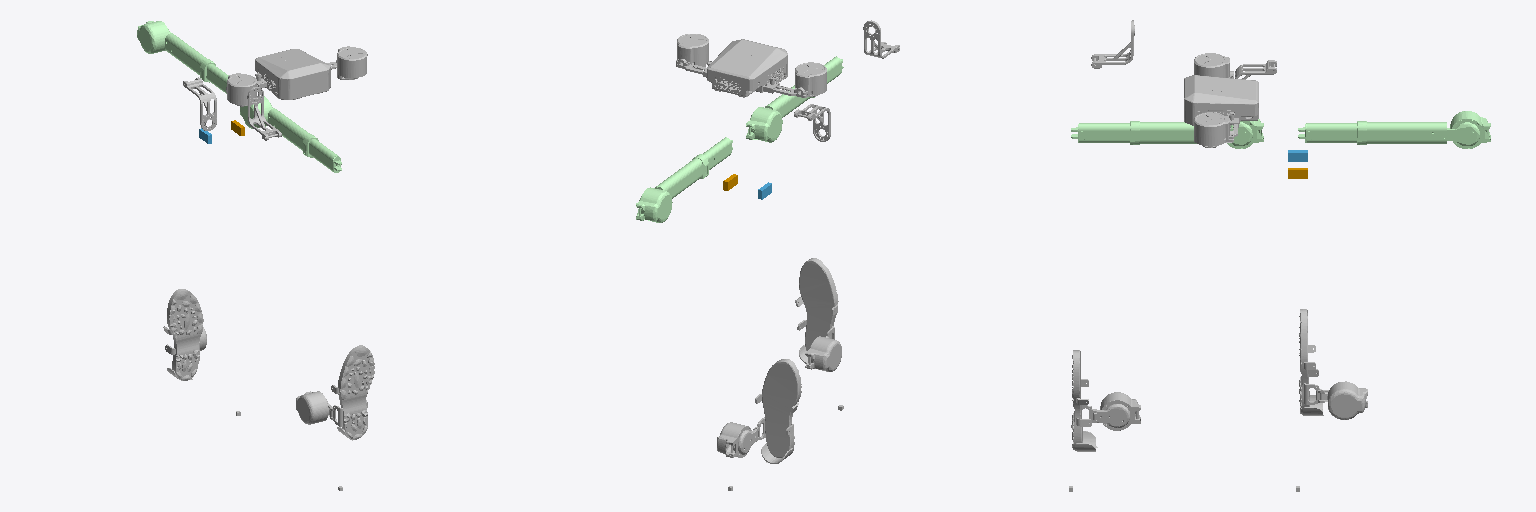
--- Render facts (derived) ---
The picture shows the robot from 3 angles, left to right: view 1: azimuth 30°, elevation 25°; view 2: azimuth 150°, elevation 25°; view 3: azimuth 270°, elevation 25°; orthographic projection.
Model exo with 14 links and 13 joints (8 revolute, 5 fixed), rooted at world, posed all joints at 0.
Links seen in each view (by area): view 1: waist_link, r_foot_link, l_foot_link, l_thigh_link, r_thigh_link, l_pel_link, r_pel_link; view 2: waist_link, l_foot_link, r_foot_link, l_thigh_link, r_thigh_link, l_pel_link, r_pel_link; view 3: waist_link, l_thigh_link, r_thigh_link, r_foot_link, l_foot_link, r_pel_link.
Boxes of the visible links, x1,y1,x2,y2 form: waist_link: [226, 46, 367, 106]; r_foot_link: [296, 345, 374, 440]; l_foot_link: [163, 289, 206, 380]; l_thigh_link: [137, 21, 228, 93]; r_thigh_link: [240, 96, 341, 172]; l_pel_link: [183, 77, 216, 130]; r_pel_link: [247, 87, 281, 140]; waist_link: [676, 34, 826, 97]; l_foot_link: [717, 359, 801, 463]; r_foot_link: [795, 258, 841, 371]; l_thigh_link: [636, 137, 732, 222]; r_thigh_link: [746, 56, 843, 142]; l_pel_link: [794, 104, 830, 141]; r_pel_link: [863, 20, 899, 58]; waist_link: [1184, 53, 1258, 147]; l_thigh_link: [1298, 111, 1490, 148]; r_thigh_link: [1071, 119, 1263, 148]; r_foot_link: [1071, 350, 1140, 451]; l_foot_link: [1299, 309, 1367, 419]; r_pel_link: [1091, 20, 1134, 68].
Bounding box of the posed robot: 0.4792 × 1.02 × 1.17 m (x, y, z).
7 mesh visuals loaded from 5 distinct referenced files (4 binary STL); not drawn: 2 (reference not matched to a file when rendering).

The robot description file, URDF, robot "exo":
<?xml version="1.0" ?>
<!-- =================================================================================== -->
<!-- |    This document was autogenerated by xacro from exo.xacro                      | -->
<!-- |    EDITING THIS FILE BY HAND IS NOT RECOMMENDED                                 | -->
<!-- =================================================================================== -->
<robot name="exo">
  <material name="silver">
    <color rgba="0.8 0.8 0.8 1.0"/>
  </material>
  <material name="blue">
    <color rgba="0.8 1 0.8 1.0"/>
  </material>
  <material name="green">
    <color rgba="0.8 0.8 1 1.0"/>
  </material>
  <!-- Human Boday Paramters -->
  
\
  
  <link name="d435_front">
    <collision>
      <origin rpy="0 0 0" xyz="0 0 0"/>
      <geometry>
        <box size="0.025 0.05 0.025"/>
      </geometry>
    </collision>
    <visual>
      <origin rpy="0 0 0" xyz="0 0 0"/>
      <geometry>
        <box size="0.0125 0.05 0.025"/>
      </geometry>
      <material name="red"/>
    </visual>
    <inertial>
      <mass value="1e-5"/>
      <origin rpy="0 0 0" xyz="0 0 0"/>
      <inertia ixx="1e-6" ixy="0" ixz="0" iyy="1e-6" iyz="0" izz="1e-6"/>
    </inertial>
  </link>
  <joint name="d435_front_joint" type="fixed">
    <axis xyz="0 1 0"/>
    <origin rpy="0 0.0 0" xyz="0.05 0 -0.234"/>
    <parent link="l_thigh_link"/>
    <child link="d435_front"/>
  </joint>
  <gazebo reference="d435_front">
    <sensor name="d435_front" type="depth">
      <always_on>true</always_on>
      <visualize>false</visualize>
      <camera>
        <horizontal_fov>1.3439</horizontal_fov>
        <image>
          <width>1920</width>
          <height>1080</height>
          <format>R8G8B8</format>
        </image>
        <depth_camera/>
        <clip>
          <near>0.03</near>
          <far>100</far>
        </clip>
      </camera>
      <plugin filename="libgazebo_ros_openni_kinect.so" name="camera_controller">
        <baseline>0.2</baseline>
        <alwaysOn>true</alwaysOn>
        <updateRate>30.0</updateRate>
        <cameraName>d435_front</cameraName>
        <frameName>d435_front</frameName>
        <imageTopicName>d435_front/rgb/image_raw</imageTopicName>
        <depthImageTopicName>d435_front/depth/image_raw</depthImageTopicName>
        <pointCloudTopicName>d435_front/depth/points</pointCloudTopicName>
        <cameraInfoTopicName>d435_front/rgb/camera_info</cameraInfoTopicName>
        <depthImageCameraInfoTopicName>d435_front/depth/camera_info</depthImageCameraInfoTopicName>
        <pointCloudCutoff>0.1</pointCloudCutoff>
        <hackBaseline>0.01</hackBaseline>
        <distortionK1>0.0</distortionK1>
        <distortionK2>0.0</distortionK2>
        <distortionK3>0.0</distortionK3>
        <distortionT1>0.0</distortionT1>
        <distortionT2>0.0</distortionT2>
        <CxPrime>0.0</CxPrime>
        <Cx>0.0</Cx>
        <Cy>0.0</Cy>
        <focalLength>0</focalLength>
        <hackBaseline>0</hackBaseline>
      </plugin>
    </sensor>
  </gazebo>
  <link name="d435_back">
    <collision>
      <origin rpy="0 0 0" xyz="0 0 0"/>
      <geometry>
        <box size="0.025 0.05 0.025"/>
      </geometry>
    </collision>
    <visual>
      <origin rpy="0 0 0" xyz="0 0 0"/>
      <geometry>
        <box size="0.0125 0.05 0.025"/>
      </geometry>
      <material name="red"/>
    </visual>
    <inertial>
      <mass value="1e-5"/>
      <origin rpy="0 0 0" xyz="0 0 0"/>
      <inertia ixx="1e-6" ixy="0" ixz="0" iyy="1e-6" iyz="0" izz="1e-6"/>
    </inertial>
  </link>
  <joint name="d435_back_joint" type="fixed">
    <axis xyz="0 1 0"/>
    <origin rpy="0 0 3.141592653589793" xyz="-0.05 0 -0.234"/>
    <parent link="l_thigh_link"/>
    <child link="d435_back"/>
  </joint>
  <gazebo reference="d435_back">
    <sensor name="d435_back" type="depth">
      <always_on>true</always_on>
      <visualize>false</visualize>
      <camera>
        <horizontal_fov>1.3439</horizontal_fov>
        <image>
          <width>1920</width>
          <height>1080</height>
          <format>R8G8B8</format>
        </image>
        <depth_camera/>
        <clip>
          <near>0.03</near>
          <far>100</far>
        </clip>
      </camera>
      <plugin filename="libgazebo_ros_openni_kinect.so" name="camera_controller">
        <baseline>0.2</baseline>
        <alwaysOn>true</alwaysOn>
        <updateRate>30.0</updateRate>
        <cameraName>d435_back</cameraName>
        <frameName>d435_back</frameName>
        <imageTopicName>d435_back/rgb/image_raw</imageTopicName>
        <depthImageTopicName>d435_back/depth/image_raw</depthImageTopicName>
        <pointCloudTopicName>d435_back/depth/points</pointCloudTopicName>
        <cameraInfoTopicName>d435_back/rgb/camera_info</cameraInfoTopicName>
        <depthImageCameraInfoTopicName>d435_back/depth/camera_info</depthImageCameraInfoTopicName>
        <pointCloudCutoff>0.1</pointCloudCutoff>
        <hackBaseline>0.01</hackBaseline>
        <distortionK1>0.0</distortionK1>
        <distortionK2>0.0</distortionK2>
        <distortionK3>0.0</distortionK3>
        <distortionT1>0.0</distortionT1>
        <distortionT2>0.0</distortionT2>
        <CxPrime>0.0</CxPrime>
        <Cx>0.0</Cx>
        <Cy>0.0</Cy>
        <focalLength>0</focalLength>
        <hackBaseline>0</hackBaseline>
      </plugin>
    </sensor>
  </gazebo>
  <link name="world"/>
  <joint name="pole_to_waist" type="fixed">
    <parent link="world"/>
    <child link="waist_link"/>
    <origin rpy="0 0 0" xyz="0 0 0"/>
  </joint>
  <!-- 
  <link name="human_waist_link">
    <visual>
      <origin xyz="0 0 ${-human_waist_h/2}" rpy="0 0 0" />
      <geometry>
        <box size="${human_waist_l} ${human_waist_w} ${human_waist_h}" />
      </geometry>
      <material name="black" />
    </visual>
    <collision>
      <origin xyz="0 0 ${-human_waist_h/2}" rpy="0 0 0" />
      <geometry>
        <box size="${human_waist_l} ${human_waist_w} ${human_waist_h}" />
      </geometry>
    </collision>

    <inertial>
      <origin xyz="0 0 ${-human_waist_h/2}" rpy="0 0 0" />
      <mass value="${human_waist_weight}" />
      <inertia ixx="${human_waist_weight / 12.0 * (human_waist_w**2 + human_waist_h**2)}" iyy="${human_waist_weight / 12.0 * (human_waist_l**2 + human_waist_h**2)}" izz="${human_waist_weight / 12.0 * (human_waist_l**2 + human_waist_w**2)}" ixy="0" ixz="0" iyz="0" />
    </inertial>

  </link>

  <joint name="human_waist_link_joint" type="fixed">
    <parent link="waist_link" />
    <child link="human_waist_link" />
    <origin xyz="${human_waist_l/2 + 0.08} 0 ${0}" rpy="0 0 0" />
  </joint> -->
  <link name="waist_link">
    <collision>
      <origin rpy="0 0 0" xyz="0 0 -0.025"/>
      <geometry>
        <box size="0.05 0.225 0.03"/>
      </geometry>
    </collision>
    <visual>
      <!-- <xacro:if value="${use_mesh}">
                    <mesh_filename="" />
                </xacro:if> -->
      <!-- <xacro:property name="o_rpy_parts" value="split(o_rpy)" />
                <xacro:property name="o_yaw" value="${(o_rpy_parts[2])}" /> -->
      <!-- <origin xyz="0 0 0" rpy="0 0 ${-PI}" /> -->
      <!-- <origin xyz="${-h} ${-w/2} ${-l}" rpy="${PI/2} 0 ${PI/2 + float(o_yaw)}" /> -->
      <origin rpy="1.5707963267948966 0 -1.5707963267948966" xyz="0 0.21000000000000002 -0.062"/>
      <geometry>
        <mesh filename="package://yr_description/urdf/meshes_yr/waist_center.STL" scale="0.001 0.001 0.001"/>
      </geometry>
      <origin rpy="0 0 0" xyz="0 0 -0.025"/>
      <material name="silver"/>
    </visual>
    <inertial>
      <origin rpy="0 0 0" xyz="0 0 -0.025"/>
      <mass value="2.0"/>
      <inertia ixx="0.008854166666666666" ixy="0.0" ixz="0.0" iyy="0.0008333333333333335" iyz="0.0" izz="0.008854166666666666"/>
    </inertial>
  </link>
  <link name="l_pel_link">
    <collision>
      <origin rpy="0 0 0" xyz="0 0 -0.05"/>
      <geometry>
        <box size="0.1 0.05 0.06"/>
      </geometry>
    </collision>
    <visual>
      <!-- <xacro:if value="${use_mesh}">
                    <mesh_filename="" />
                </xacro:if> -->
      <!-- <xacro:property name="o_rpy_parts" value="split(o_rpy)" />
                <xacro:property name="o_yaw" value="${(o_rpy_parts[2])}" /> -->
      <!-- <origin xyz="0 0 0" rpy="0 0 ${-PI}" /> -->
      <!-- <origin xyz="${-h} ${-w/2} ${-l}" rpy="${PI/2} 0 ${PI/2 + float(o_yaw)}" /> -->
      <origin rpy="1.5707963267948966 0 1.5707963267948966" xyz="-0.09 -0.028 -0.088"/>
      <geometry>
        <mesh filename="package://yr_description/urdf/meshes_yr/waist_corner_bracket.STL" scale="0.001 0.001 0.001"/>
      </geometry>
      <origin rpy="0 0 0" xyz="0 0 -0.05"/>
      <material name="silver"/>
    </visual>
    <inertial>
      <origin rpy="0 0 0" xyz="0 0 -0.05"/>
      <mass value="1.0"/>
      <inertia ixx="0.0010416666666666669" ixy="0.0" ixz="0.0" iyy="0.001666666666666667" iyz="0.0" izz="0.0010416666666666669"/>
    </inertial>
  </link>
  <link name="l_thigh_link">
    <collision>
      <origin rpy="0 0 0" xyz="0 0 -0.234"/>
      <geometry>
        <box size="0.1 0.1 0.2808"/>
      </geometry>
    </collision>
    <visual>
      <!-- <xacro:if value="${use_mesh}">
                    <mesh_filename="" />
                </xacro:if> -->
      <!-- <xacro:property name="o_rpy_parts" value="split(o_rpy)" />
                <xacro:property name="o_yaw" value="${(o_rpy_parts[2])}" /> -->
      <!-- <origin xyz="0 0 0" rpy="0 0 ${-PI}" /> -->
      <!-- <origin xyz="${-h} ${-w/2} ${-l}" rpy="${PI/2} 0 ${PI/2 + float(o_yaw)}" /> -->
      <origin rpy="1.5707963267948966 0 4.71238898038469" xyz="0.1 0.05 -0.468"/>
      <geometry>
        <mesh filename="package://yr_description/urdf/meshes_yr/exo_thigh.STL" scale="0.001 0.001 0.001"/>
      </geometry>
      <origin rpy="0 0 0" xyz="0 0 -0.234"/>
      <material name="blue"/>
    </visual>
    <inertial>
      <origin rpy="0 0 0" xyz="0 0 -0.234"/>
      <mass value="1.5"/>
      <inertia ixx="0.028628000000000004" ixy="0.0" ixz="0.0" iyy="0.028628000000000004" iyz="0.0" izz="0.0025000000000000005"/>
    </inertial>
  </link>
  <link name="l_shank_link">
    <collision>
      <origin rpy="0 0 0" xyz="0 0 -0.234"/>
      <geometry>
        <box size="0.1 0.1 0.2808"/>
      </geometry>
    </collision>
    <visual>
      <!-- <xacro:if value="${use_mesh}">
                    <mesh_filename="" />
                </xacro:if> -->
      <!-- <xacro:property name="o_rpy_parts" value="split(o_rpy)" />
                <xacro:property name="o_yaw" value="${(o_rpy_parts[2])}" /> -->
      <!-- <origin xyz="0 0 0" rpy="0 0 ${-PI}" /> -->
      <!-- <origin xyz="${-h} ${-w/2} ${-l}" rpy="${PI/2} 0 ${PI/2 + float(o_yaw)}" /> -->
      <origin rpy="1.5707963267948966 0 4.71238898038469" xyz="0.1 0.05 -0.468"/>
      <geometry>
        <mesh filename="package://yr_description/urdf/meshes_yr/exo_shank.STL" scale="0.001 0.001 0.001"/>
      </geometry>
      <origin rpy="0 0 0" xyz="0 0 -0.234"/>
      <material name="green"/>
    </visual>
    <inertial>
      <origin rpy="0 0 0" xyz="0 0 -0.234"/>
      <mass value="1.5"/>
      <inertia ixx="0.028628000000000004" ixy="0.0" ixz="0.0" iyy="0.028628000000000004" iyz="0.0" izz="0.0025000000000000005"/>
    </inertial>
  </link>
  <!-- <xacro:create_link2 name="l_foot_link" m="${foot_m}" l="${foot_h}" w="${foot_w}" h="${foot_l}" o_x="${-foot_h}" o_y="${foot_w}" o_z="${-foot_l}" o_r="0" o_p="0" o_yaw="0" mat="${foot_mat}" mesh_filename="${foot_mesh}" mirror="-1" /> -->
  <link name="l_foot_link">
    <collision>
      <origin rpy="0 0 0" xyz="0.05 0 -0.1"/>
      <geometry>
        <box size="0.2 0.08 0.075"/>
      </geometry>
    </collision>
    <visual>
      <origin rpy="1.5707963267948966 0 1.5707963267948966" xyz="-0.1 0.08 -0.15"/>
      <geometry>
        <mesh filename="package://yr_description/urdf/meshes_yr/exo_foot.STL" scale="-0.001 0.001 0.001"/>
      </geometry>
      <origin rpy="0 0 0" xyz="0 0 -0.05"/>
      <material name="silver"/>
    </visual>
    <inertial>
      <origin rpy="0 0 0" xyz="0 0 -0.05"/>
      <mass value="1.0"/>
      <inertia ixx="0.0013666666666666666" ixy="0.0" ixz="0.0" iyy="0.0027083333333333334" iyz="0.0" izz="0.002408333333333333"/>
    </inertial>
  </link>
  <link name="l_foot_bottom_link">
    <!-- <collision>
      <origin xyz="0 0 0" rpy="0 0 0" />
      <geometry>
        <box size="0.01 0.01 0.01" />
      </geometry>
      <origin xyz="0 0 0" rpy="0 0 0" />
    </collision> -->
    <visual>
      <origin rpy="0 0 0" xyz="0 0 0"/>
      <geometry>
        <box size="0.01 0.01 0.01"/>
      </geometry>
      <origin rpy="0 0 0" xyz="0 0 0"/>
      <material name="silver"/>
    </visual>
    <inertial>
      <origin rpy="0 0 0" xyz="0 0 0"/>
      <mass value="0.01"/>
      <inertia ixx="0.00001" ixy="0.0" ixz="0.0" iyy="0.00001" iyz="0.0" izz="0.00001"/>
    </inertial>
  </link>
  <joint name="l_foot_bottom_joint" type="fixed">
    <parent link="l_foot_link"/>
    <child link="l_foot_bottom_link"/>
    <origin rpy="0 0 0" xyz="0.05 0 -0.14"/>
  </joint>
  <link name="r_pel_link">
    <collision>
      <origin rpy="0 0 0" xyz="0 0 -0.05"/>
      <geometry>
        <box size="0.1 0.05 0.06"/>
      </geometry>
    </collision>
    <visual>
      <!-- <xacro:if value="${use_mesh}">
                    <mesh_filename="" />
                </xacro:if> -->
      <!-- <xacro:property name="o_rpy_parts" value="split(o_rpy)" />
                <xacro:property name="o_yaw" value="${(o_rpy_parts[2])}" /> -->
      <!-- <origin xyz="0 0 0" rpy="0 0 ${-PI}" /> -->
      <!-- <origin xyz="${-h} ${-w/2} ${-l}" rpy="${PI/2} 0 ${PI/2 + float(o_yaw)}" /> -->
      <origin rpy="1.5707963267948966 0 1.5707963267948966" xyz="-0.09 -0.028 -0.088"/>
      <geometry>
        <mesh filename="package://yr_description/urdf/meshes_yr/waist_corner_bracket.STL" scale="0.001 0.001 0.001"/>
      </geometry>
      <origin rpy="0 0 0" xyz="0 0 -0.05"/>
      <material name="silver"/>
    </visual>
    <inertial>
      <origin rpy="0 0 0" xyz="0 0 -0.05"/>
      <mass value="1.0"/>
      <inertia ixx="0.0010416666666666669" ixy="0.0" ixz="0.0" iyy="0.001666666666666667" iyz="0.0" izz="0.0010416666666666669"/>
    </inertial>
  </link>
  <link name="r_thigh_link">
    <collision>
      <origin rpy="0 0 0" xyz="0 0 -0.234"/>
      <geometry>
        <box size="0.1 0.1 0.2808"/>
      </geometry>
    </collision>
    <visual>
      <!-- <xacro:if value="${use_mesh}">
                    <mesh_filename="" />
                </xacro:if> -->
      <!-- <xacro:property name="o_rpy_parts" value="split(o_rpy)" />
                <xacro:property name="o_yaw" value="${(o_rpy_parts[2])}" /> -->
      <!-- <origin xyz="0 0 0" rpy="0 0 ${-PI}" /> -->
      <!-- <origin xyz="${-h} ${-w/2} ${-l}" rpy="${PI/2} 0 ${PI/2 + float(o_yaw)}" /> -->
      <origin rpy="1.5707963267948966 0 1.5707963267948966" xyz="-0.1 -0.05 -0.468"/>
      <geometry>
        <mesh filename="package://yr_description/urdf/meshes_yr/exo_thigh.STL" scale="0.001 0.001 0.001"/>
      </geometry>
      <origin rpy="0 0 0" xyz="0 0 -0.234"/>
      <material name="blue"/>
    </visual>
    <inertial>
      <origin rpy="0 0 0" xyz="0 0 -0.234"/>
      <mass value="1.5"/>
      <inertia ixx="0.028628000000000004" ixy="0.0" ixz="0.0" iyy="0.028628000000000004" iyz="0.0" izz="0.0025000000000000005"/>
    </inertial>
  </link>
  <link name="r_shank_link">
    <collision>
      <origin rpy="0 0 0" xyz="0 0 -0.234"/>
      <geometry>
        <box size="0.1 0.1 0.2808"/>
      </geometry>
    </collision>
    <visual>
      <!-- <xacro:if value="${use_mesh}">
                    <mesh_filename="" />
                </xacro:if> -->
      <!-- <xacro:property name="o_rpy_parts" value="split(o_rpy)" />
                <xacro:property name="o_yaw" value="${(o_rpy_parts[2])}" /> -->
      <!-- <origin xyz="0 0 0" rpy="0 0 ${-PI}" /> -->
      <!-- <origin xyz="${-h} ${-w/2} ${-l}" rpy="${PI/2} 0 ${PI/2 + float(o_yaw)}" /> -->
      <origin rpy="1.5707963267948966 0 1.5707963267948966" xyz="-0.1 -0.05 -0.468"/>
      <geometry>
        <mesh filename="package://yr_description/urdf/meshes_yr/exo_shank.STL" scale="0.001 0.001 0.001"/>
      </geometry>
      <origin rpy="0 0 0" xyz="0 0 -0.234"/>
      <material name="green"/>
    </visual>
    <inertial>
      <origin rpy="0 0 0" xyz="0 0 -0.234"/>
      <mass value="1.5"/>
      <inertia ixx="0.028628000000000004" ixy="0.0" ixz="0.0" iyy="0.028628000000000004" iyz="0.0" izz="0.0025000000000000005"/>
    </inertial>
  </link>
  <!-- <xacro:create_link2 name="r_foot_link" m="${foot_m}" l="${foot_h}" w="${foot_w}" h="${foot_l}" o_x="${-foot_h}" o_y="${-foot_w}" o_z="${-foot_l}" o_r="0" o_p="0" o_yaw="0" mat="${foot_mat}" mesh_filename="${foot_mesh}" mirror="1" /> -->
  <link name="r_foot_link">
    <collision>
      <origin rpy="0 0 0" xyz="0.05 0 -0.1"/>
      <geometry>
        <box size="0.2 0.08 0.075"/>
      </geometry>
    </collision>
    <visual>
      <origin rpy="1.5707963267948966 0 1.5707963267948966" xyz="-0.1 -0.08 -0.15"/>
      <geometry>
        <mesh filename="package://yr_description/urdf/meshes_yr/exo_foot.STL" scale="0.001 0.001 0.001"/>
      </geometry>
      <origin rpy="0 0 0" xyz="0 0 -0.05"/>
      <material name="silver"/>
    </visual>
    <inertial>
      <origin rpy="0 0 0" xyz="0 0 -0.05"/>
      <mass value="1.0"/>
      <inertia ixx="0.0013666666666666666" ixy="0.0" ixz="0.0" iyy="0.0027083333333333334" iyz="0.0" izz="0.002408333333333333"/>
    </inertial>
  </link>
  <link name="r_foot_bottom_link">
    <!-- <collision>
      <origin xyz="0 0 0" rpy="0 0 0" />
      <geometry>
        <box size="0.01 0.01 0.01" />
      </geometry>
      <origin xyz="0 0 0" rpy="0 0 0" />
    </collision> -->
    <visual>
      <origin rpy="0 0 0" xyz="0 0 0"/>
      <geometry>
        <box size="0.01 0.01 0.01"/>
      </geometry>
      <origin rpy="0 0 0" xyz="0 0 0"/>
      <material name="silver"/>
    </visual>
    <inertial>
      <origin rpy="0 0 0" xyz="0 0 0"/>
      <mass value="0.01"/>
      <inertia ixx="0.00001" ixy="0.0" ixz="0.0" iyy="0.00001" iyz="0.0" izz="0.00001"/>
    </inertial>
  </link>
  <joint name="r_foot_bottom_joint" type="fixed">
    <parent link="r_foot_link"/>
    <child link="r_foot_bottom_link"/>
    <origin rpy="0 0 0" xyz="0.05 0 -0.14"/>
  </joint>
  <joint name="yr_l_pel_joint" type="revolute">
    <parent link="waist_link"/>
    <child link="l_pel_link"/>
    <origin rpy="-1.5707963267948966 0 -3.141592653589793" xyz="0 0.175 0"/>
    <axis xyz="1 0 0"/>
    <limit effort="1000" lower="-1.5707963267948966" upper="1.5707963267948966" velocity="10.0"/>
  </joint>
  <joint name="yr_l_hip_joint" type="revolute">
    <parent link="l_pel_link"/>
    <child link="l_thigh_link"/>
    <origin rpy="-1.5707963267948966 0 -3.141592653589793" xyz="-0.1 -0.025 -0.1"/>
    <axis xyz="0 1 0"/>
    <limit effort="1000" lower="-2.356194490192345" upper="2.356194490192345" velocity="10.0"/>
  </joint>
  <joint name="yr_l_kne_joint" type="revolute">
    <parent link="l_thigh_link"/>
    <child link="l_shank_link"/>
    <origin rpy="0 0 0" xyz="0 0 -0.468"/>
    <axis xyz="0 1 0"/>
    <limit effort="1000" lower="-0.7853981633974483" upper="3.141592653589793" velocity="10.0"/>
  </joint>
  <joint name="yr_l_ank_joint" type="revolute">
    <parent link="l_shank_link"/>
    <child link="l_foot_link"/>
    <origin rpy="0 0 0" xyz="0 0 -0.468"/>
    <axis xyz="0 1 0"/>
    <limit effort="1000" lower="-0.7853981633974483" upper="1.5707963267948966" velocity="10.0"/>
  </joint>
  <joint name="yr_r_pel_joint" type="revolute">
    <parent link="waist_link"/>
    <child link="r_pel_link"/>
    <origin rpy="1.5707963267948966 0 -3.141592653589793" xyz="0 -0.175 0"/>
    <axis xyz="1 0 0"/>
    <limit effort="1000" lower="-1.5707963267948966" upper="1.5707963267948966" velocity="10.0"/>
  </joint>
  <joint name="yr_r_hip_joint" type="revolute">
    <parent link="r_pel_link"/>
    <child link="r_thigh_link"/>
    <origin rpy="1.5707963267948966 0 -3.141592653589793" xyz="-0.1 0.025 -0.1"/>
    <axis xyz="0 1 0"/>
    <limit effort="1000" lower="-2.356194490192345" upper="2.356194490192345" velocity="10.0"/>
  </joint>
  <joint name="yr_r_kne_joint" type="revolute">
    <parent link="r_thigh_link"/>
    <child link="r_shank_link"/>
    <origin rpy="0 0 0" xyz="0 0 -0.468"/>
    <axis xyz="0 1 0"/>
    <limit effort="1000" lower="-0.7853981633974483" upper="3.141592653589793" velocity="10.0"/>
  </joint>
  <joint name="yr_r_ank_joint" type="revolute">
    <parent link="r_shank_link"/>
    <child link="r_foot_link"/>
    <origin rpy="0 0 0" xyz="0 0 -0.468"/>
    <axis xyz="0 1 0"/>
    <limit effort="1000" lower="-0.7853981633974483" upper="1.5707963267948966" velocity="10.0"/>
  </joint>
  <gazebo>
    <plugin filename="libgazebo_ros_control.so" name="gazebo_ros_control">
      <robotNamespace>/exo</robotNamespace>
      <robotSimType>gazebo_ros_control/DefaultRobotHWSim</robotSimType>
    </plugin>
  </gazebo>
  <transmission name="yr_l_pel_joint_tran">
    <type>transmission_interface/SimpleTransmission</type>
    <joint name="yr_l_pel_joint">
      <hardwareInterface>EffortJointInterface</hardwareInterface>
    </joint>
    <actuator name="yr_l_pel_joint_motor">
      <!-- <hardwareInterface>EffortJointInterface</hardwareInterface> -->
      <mechanicalReduction>1</mechanicalReduction>
    </actuator>
  </transmission>
  <transmission name="yr_l_hip_joint_tran">
    <type>transmission_interface/SimpleTransmission</type>
    <joint name="yr_l_hip_joint">
      <hardwareInterface>EffortJointInterface</hardwareInterface>
    </joint>
    <actuator name="yr_l_hip_joint_motor">
      <!-- <hardwareInterface>EffortJointInterface</hardwareInterface> -->
      <mechanicalReduction>1</mechanicalReduction>
    </actuator>
  </transmission>
  <transmission name="yr_l_kne_joint_tran">
    <type>transmission_interface/SimpleTransmission</type>
    <joint name="yr_l_kne_joint">
      <hardwareInterface>EffortJointInterface</hardwareInterface>
    </joint>
    <actuator name="yr_l_kne_joint_motor">
      <!-- <hardwareInterface>EffortJointInterface</hardwareInterface> -->
      <mechanicalReduction>1</mechanicalReduction>
    </actuator>
  </transmission>
  <transmission name="yr_l_ank_joint_tran">
    <type>transmission_interface/SimpleTransmission</type>
    <joint name="yr_l_ank_joint">
      <hardwareInterface>EffortJointInterface</hardwareInterface>
    </joint>
    <actuator name="yr_l_ank_joint_motor">
      <!-- <hardwareInterface>EffortJointInterface</hardwareInterface> -->
      <mechanicalReduction>1</mechanicalReduction>
    </actuator>
  </transmission>
  <transmission name="yr_r_pel_joint_tran">
    <type>transmission_interface/SimpleTransmission</type>
    <joint name="yr_r_pel_joint">
      <hardwareInterface>EffortJointInterface</hardwareInterface>
    </joint>
    <actuator name="yr_r_pel_joint_motor">
      <!-- <hardwareInterface>EffortJointInterface</hardwareInterface> -->
      <mechanicalReduction>1</mechanicalReduction>
    </actuator>
  </transmission>
  <transmission name="yr_r_hip_joint_tran">
    <type>transmission_interface/SimpleTransmission</type>
    <joint name="yr_r_hip_joint">
      <hardwareInterface>EffortJointInterface</hardwareInterface>
    </joint>
    <actuator name="yr_r_hip_joint_motor">
      <!-- <hardwareInterface>EffortJointInterface</hardwareInterface> -->
      <mechanicalReduction>1</mechanicalReduction>
    </actuator>
  </transmission>
  <transmission name="yr_r_kne_joint_tran">
    <type>transmission_interface/SimpleTransmission</type>
    <joint name="yr_r_kne_joint">
      <hardwareInterface>EffortJointInterface</hardwareInterface>
    </joint>
    <actuator name="yr_r_kne_joint_motor">
      <!-- <hardwareInterface>EffortJointInterface</hardwareInterface> -->
      <mechanicalReduction>1</mechanicalReduction>
    </actuator>
  </transmission>
  <transmission name="yr_r_ank_joint_tran">
    <type>transmission_interface/SimpleTransmission</type>
    <joint name="yr_r_ank_joint">
      <hardwareInterface>EffortJointInterface</hardwareInterface>
    </joint>
    <actuator name="yr_r_ank_joint_motor">
      <!-- <hardwareInterface>EffortJointInterface</hardwareInterface> -->
      <mechanicalReduction>1</mechanicalReduction>
    </actuator>
  </transmission>
  <gazebo reference="human_waist_link">
    <mu1>1.0</mu1>
    <mu2>1.0</mu2>
    <self_collide>0</self_collide>
    <material>Gazebo/White</material>
    <visual>
      <material>
        <ambient>0.7 0.7 0.7 1</ambient>
        <diffuse>0.7 0.7 0.7 1</diffuse>
        <specular>0.1 0.1 0.1 1</specular>
        <emissive>0 0 0 0</emissive>
      </material>
    </visual>
    <!-- <collision>
                <surface>
                    <friction>
                        <ode>
                            <mu1>2</mu1>
                            <mu2>2</mu2>
                            <kp value="1000000.0" />
                            <kd value="1000.0" />
                        </ode>
                    </friction>
                </surface>

            </collision> -->
  </gazebo>
  <gazebo reference="waist_link">
    <mu1>1.0</mu1>
    <mu2>1.0</mu2>
    <self_collide>0</self_collide>
    <material>Gazebo/White</material>
    <visual>
      <material>
        <ambient>0.7 0.7 0.7 1</ambient>
        <diffuse>0.7 0.7 0.7 1</diffuse>
        <specular>0.1 0.1 0.1 1</specular>
        <emissive>0 0 0 0</emissive>
      </material>
    </visual>
    <!-- <collision>
                <surface>
                    <friction>
                        <ode>
                            <mu1>2</mu1>
                            <mu2>2</mu2>
                            <kp value="1000000.0" />
                            <kd value="1000.0" />
                        </ode>
                    </friction>
                </surface>

            </collision> -->
  </gazebo>
  <gazebo reference="l_pel_link">
    <mu1>1.0</mu1>
    <mu2>1.0</mu2>
    <self_collide>0</self_collide>
    <material>Gazebo/White</material>
    <visual>
      <material>
        <ambient>0.7 0.7 0.7 1</ambient>
        <diffuse>0.7 0.7 0.7 1</diffuse>
        <specular>0.1 0.1 0.1 1</specular>
        <emissive>0 0 0 0</emissive>
      </material>
    </visual>
    <!-- <collision>
                <surface>
                    <friction>
                        <ode>
                            <mu1>2</mu1>
                            <mu2>2</mu2>
                            <kp value="1000000.0" />
                            <kd value="1000.0" />
                        </ode>
                    </friction>
                </surface>

            </collision> -->
  </gazebo>
  <gazebo reference="l_thigh_link">
    <mu1>1.0</mu1>
    <mu2>1.0</mu2>
    <self_collide>0</self_collide>
    <material>Gazebo/White</material>
    <visual>
      <material>
        <ambient>0.7 0.7 0.7 1</ambient>
        <diffuse>0.7 0.7 0.7 1</diffuse>
        <specular>0.1 0.1 0.1 1</specular>
        <emissive>0 0 0 0</emissive>
      </material>
    </visual>
    <!-- <collision>
                <surface>
                    <friction>
                        <ode>
                            <mu1>2</mu1>
                            <mu2>2</mu2>
                            <kp value="1000000.0" />
                            <kd value="1000.0" />
                        </ode>
                    </friction>
                </surface>

            </collision> -->
  </gazebo>
  <gazebo reference="l_shank_link">
    <mu1>1.0</mu1>
    <mu2>1.0</mu2>
    <self_collide>0</self_collide>
    <material>Gazebo/White</material>
    <visual>
      <material>
        <ambient>0.8 0.8 0.8 1</ambient>
        <diffuse>0.8 0.8 0.8 1</diffuse>
        <specular>0.1 0.1 0.1 1</specular>
        <emissive>0 0 0 0</emissive>
      </material>
    </visual>
    <!-- <collision>
                <surface>
                    <friction>
                        <ode>
                            <mu1>2</mu1>
                            <mu2>2</mu2>
                            <kp value="1000000.0" />
                            <kd value="1000.0" />
                        </ode>
                    </friction>
                </surface>

            </collision> -->
  </gazebo>
  <gazebo reference="l_foot_link">
    <mu1>1.0</mu1>
    <mu2>1.0</mu2>
    <self_collide>0</self_collide>
    <material>Gazebo/White</material>
    <visual>
      <material>
        <ambient>0.7 0.7 0.7 1</ambient>
        <diffuse>0.7 0.7 0.7 1</diffuse>
        <specular>0.1 0.1 0.1 1</specular>
        <emissive>0 0 0 0</emissive>
      </material>
    </visual>
    <!-- <collision>
                <surface>
                    <friction>
                        <ode>
                            <mu1>2</mu1>
                            <mu2>2</mu2>
                            <kp value="1000000.0" />
                            <kd value="1000.0" />
                        </ode>
                    </friction>
                </surface>

            </collision> -->
  </gazebo>
  <gazebo reference="r_pel_link">
    <mu1>1.0</mu1>
    <mu2>1.0</mu2>
    <self_collide>0</self_collide>
    <material>Gazebo/White</material>
    <visual>
      <material>
        <ambient>0.7 0.7 0.7 1</ambient>
        <diffuse>0.7 0.7 0.7 1</diffuse>
        <specular>0.1 0.1 0.1 1</specular>
        <emissive>0 0 0 0</emissive>
      </material>
    </visual>
    <!-- <collision>
                <surface>
                    <friction>
                        <ode>
                            <mu1>2</mu1>
                            <mu2>2</mu2>
                            <kp value="1000000.0" />
                            <kd value="1000.0" />
                        </ode>
                    </friction>
                </surface>

            </collision> -->
  </gazebo>
  <gazebo reference="r_thigh_link">
    <mu1>1.0</mu1>
    <mu2>1.0</mu2>
    <self_collide>0</self_collide>
    <material>Gazebo/White</material>
    <visual>
      <material>
        <ambient>0.7 0.7 0.7 1</ambient>
        <diffuse>0.7 0.7 0.7 1</diffuse>
        <specular>0.1 0.1 0.1 1</specular>
        <emissive>0 0 0 0</emissive>
      </material>
    </visual>
    <!-- <collision>
                <surface>
                    <friction>
                        <ode>
                            <mu1>2</mu1>
                            <mu2>2</mu2>
                            <kp value="1000000.0" />
                            <kd value="1000.0" />
                        </ode>
                    </friction>
                </surface>

            </collision> -->
  </gazebo>
  <gazebo reference="r_shank_link">
    <mu1>1.0</mu1>
    <mu2>1.0</mu2>
    <self_collide>0</self_collide>
    <material>Gazebo/White</material>
    <visual>
      <material>
        <ambient>0.7 0.7 0.7 1</ambient>
        <diffuse>0.7 0.7 0.7 1</diffuse>
        <specular>0.1 0.1 0.1 1</specular>
        <emissive>0 0 0 0</emissive>
      </material>
    </visual>
    <!-- <collision>
                <surface>
                    <friction>
                        <ode>
                            <mu1>2</mu1>
                            <mu2>2</mu2>
                            <kp value="1000000.0" />
                            <kd value="1000.0" />
                        </ode>
                    </friction>
                </surface>

            </collision> -->
  </gazebo>
  <gazebo reference="r_foot_link">
    <mu1>1.0</mu1>
    <mu2>1.0</mu2>
    <self_collide>0</self_collide>
    <material>Gazebo/White</material>
    <visual>
      <material>
        <ambient>0.7 0.7 0.7 1</ambient>
        <diffuse>0.7 0.7 0.7 1</diffuse>
        <specular>0.1 0.1 0.1 1</specular>
        <emissive>0 0 0 0</emissive>
      </material>
    </visual>
    <!-- <collision>
                <surface>
                    <friction>
                        <ode>
                            <mu1>2</mu1>
                            <mu2>2</mu2>
                            <kp value="1000000.0" />
                            <kd value="1000.0" />
                        </ode>
                    </friction>
                </surface>

            </collision> -->
  </gazebo>
  <!-- 
  <xacro:define_gazebo_material link_name="stand_base" r="0.4" g="0.4" b="0.4" a="0.5" />
  <xacro:define_gazebo_material link_name="support_pole" r="0.4" g="0.4" b="0.4" a="0.5" />
 -->
  <gazebo reference="l_pel_link">
    <gravity>true</gravity>
    <sensor name="yr_l_pel_joint" type="imu">
      <always_on>true</always_on>
      <update_rate>100</update_rate>
      <visualize>true</visualize>
      <topic>yr_l_pel_joint/imu_data</topic>
      <plugin filename="libgazebo_ros_imu_sensor.so" name="imu_plugin">
        <topicName>yr_l_pel_joint/imu_data</topicName>
        <bodyName>yr_l_pel_joint_imu</bodyName>
        <updateRateHZ>10.0</updateRateHZ>
        <gaussianNoise>0.0</gaussianNoise>
        <xyzOffset>0 0 0</xyzOffset>
        <rpyOffset>0 0 0</rpyOffset>
        <frameName>yr_l_pel_joint_imu</frameName>
        <initialOrientationAsReference>false</initialOrientationAsReference>
      </plugin>
      <pose>0 0 0 0 0 0</pose>
    </sensor>
  </gazebo>
  <gazebo reference="l_thigh_link">
    <gravity>true</gravity>
    <sensor name="yr_l_hip_joint" type="imu">
      <always_on>true</always_on>
      <update_rate>100</update_rate>
      <visualize>true</visualize>
      <topic>yr_l_hip_joint/imu_data</topic>
      <plugin filename="libgazebo_ros_imu_sensor.so" name="imu_plugin">
        <topicName>yr_l_hip_joint/imu_data</topicName>
        <bodyName>yr_l_hip_joint_imu</bodyName>
        <updateRateHZ>10.0</updateRateHZ>
        <gaussianNoise>0.0</gaussianNoise>
        <xyzOffset>0 0 0</xyzOffset>
        <rpyOffset>0 0 0</rpyOffset>
        <frameName>yr_l_hip_joint_imu</frameName>
        <initialOrientationAsReference>false</initialOrientationAsReference>
      </plugin>
      <pose>0 0 0 0 0 0</pose>
    </sensor>
  </gazebo>
  <gazebo reference="l_shank_link">
    <gravity>true</gravity>
    <sensor name="yr_l_kne_joint" type="imu">
      <always_on>true</always_on>
      <update_rate>100</update_rate>
      <visualize>true</visualize>
      <topic>yr_l_kne_joint/imu_data</topic>
      <plugin filename="libgazebo_ros_imu_sensor.so" name="imu_plugin">
        <topicName>yr_l_kne_joint/imu_data</topicName>
        <bodyName>yr_l_kne_joint_imu</bodyName>
        <updateRateHZ>10.0</updateRateHZ>
        <gaussianNoise>0.0</gaussianNoise>
        <xyzOffset>0 0 0</xyzOffset>
        <rpyOffset>0 0 0</rpyOffset>
        <frameName>yr_l_kne_joint_imu</frameName>
        <initialOrientationAsReference>false</initialOrientationAsReference>
      </plugin>
      <pose>0 0 0 0 0 0</pose>
    </sensor>
  </gazebo>
  <gazebo reference="l_foot_link">
    <gravity>true</gravity>
    <sensor name="yr_l_ank_joint" type="imu">
      <always_on>true</always_on>
      <update_rate>100</update_rate>
      <visualize>true</visualize>
      <topic>yr_l_ank_joint/imu_data</topic>
      <plugin filename="libgazebo_ros_imu_sensor.so" name="imu_plugin">
        <topicName>yr_l_ank_joint/imu_data</topicName>
        <bodyName>yr_l_ank_joint_imu</bodyName>
        <updateRateHZ>10.0</updateRateHZ>
        <gaussianNoise>0.0</gaussianNoise>
        <xyzOffset>0 0 0</xyzOffset>
        <rpyOffset>0 0 0</rpyOffset>
        <frameName>yr_l_ank_joint_imu</frameName>
        <initialOrientationAsReference>false</initialOrientationAsReference>
      </plugin>
      <pose>0 0 0 0 0 0</pose>
    </sensor>
  </gazebo>
  <gazebo reference="r_pel_link">
    <gravity>true</gravity>
    <sensor name="yr_r_pel_joint" type="imu">
      <always_on>true</always_on>
      <update_rate>100</update_rate>
      <visualize>true</visualize>
      <topic>yr_r_pel_joint/imu_data</topic>
      <plugin filename="libgazebo_ros_imu_sensor.so" name="imu_plugin">
        <topicName>yr_r_pel_joint/imu_data</topicName>
        <bodyName>yr_r_pel_joint_imu</bodyName>
        <updateRateHZ>10.0</updateRateHZ>
        <gaussianNoise>0.0</gaussianNoise>
        <xyzOffset>0 0 0</xyzOffset>
        <rpyOffset>0 0 0</rpyOffset>
        <frameName>yr_r_pel_joint_imu</frameName>
        <initialOrientationAsReference>false</initialOrientationAsReference>
      </plugin>
      <pose>0 0 0 0 0 0</pose>
    </sensor>
  </gazebo>
  <gazebo reference="r_thigh_link">
    <gravity>true</gravity>
    <sensor name="yr_r_hip_joint" type="imu">
      <always_on>true</always_on>
      <update_rate>100</update_rate>
      <visualize>true</visualize>
      <topic>yr_r_hip_joint/imu_data</topic>
      <plugin filename="libgazebo_ros_imu_sensor.so" name="imu_plugin">
        <topicName>yr_r_hip_joint/imu_data</topicName>
        <bodyName>yr_r_hip_joint_imu</bodyName>
        <updateRateHZ>10.0</updateRateHZ>
        <gaussianNoise>0.0</gaussianNoise>
        <xyzOffset>0 0 0</xyzOffset>
        <rpyOffset>0 0 0</rpyOffset>
        <frameName>yr_r_hip_joint_imu</frameName>
        <initialOrientationAsReference>false</initialOrientationAsReference>
      </plugin>
      <pose>0 0 0 0 0 0</pose>
    </sensor>
  </gazebo>
  <gazebo reference="r_shank_link">
    <gravity>true</gravity>
    <sensor name="yr_r_kne_joint" type="imu">
      <always_on>true</always_on>
      <update_rate>100</update_rate>
      <visualize>true</visualize>
      <topic>yr_r_kne_joint/imu_data</topic>
      <plugin filename="libgazebo_ros_imu_sensor.so" name="imu_plugin">
        <topicName>yr_r_kne_joint/imu_data</topicName>
        <bodyName>yr_r_kne_joint_imu</bodyName>
        <updateRateHZ>10.0</updateRateHZ>
        <gaussianNoise>0.0</gaussianNoise>
        <xyzOffset>0 0 0</xyzOffset>
        <rpyOffset>0 0 0</rpyOffset>
        <frameName>yr_r_kne_joint_imu</frameName>
        <initialOrientationAsReference>false</initialOrientationAsReference>
      </plugin>
      <pose>0 0 0 0 0 0</pose>
    </sensor>
  </gazebo>
  <gazebo reference="r_foot_link">
    <gravity>true</gravity>
    <sensor name="yr_r_ank_joint" type="imu">
      <always_on>true</always_on>
      <update_rate>100</update_rate>
      <visualize>true</visualize>
      <topic>yr_r_ank_joint/imu_data</topic>
      <plugin filename="libgazebo_ros_imu_sensor.so" name="imu_plugin">
        <topicName>yr_r_ank_joint/imu_data</topicName>
        <bodyName>yr_r_ank_joint_imu</bodyName>
        <updateRateHZ>10.0</updateRateHZ>
        <gaussianNoise>0.0</gaussianNoise>
        <xyzOffset>0 0 0</xyzOffset>
        <rpyOffset>0 0 0</rpyOffset>
        <frameName>yr_r_ank_joint_imu</frameName>
        <initialOrientationAsReference>false</initialOrientationAsReference>
      </plugin>
      <pose>0 0 0 0 0 0</pose>
    </sensor>
  </gazebo>
  <!-- 
  <xacro:include filename="$(find realsense_ros_gazebo)/xacro/depthcam.xacro"/>

  <xacro:realsense_d435 sensor_name="d435_front" parent_link="l_thigh_link" rate="10">
    <origin rpy="${PI/2} ${PI/3} 0 " xyz="0 0 ${-thigh_l/2}"/>
  </xacro:realsense_d435>

  <xacro:realsense_d435 sensor_name="d435_back" parent_link="l_thigh_link" rate="10">
    <origin rpy="${PI/2} ${PI/3} ${PI}" xyz="0 0 ${-thigh_l/2}"/>
  </xacro:realsense_d435> -->
</robot>
